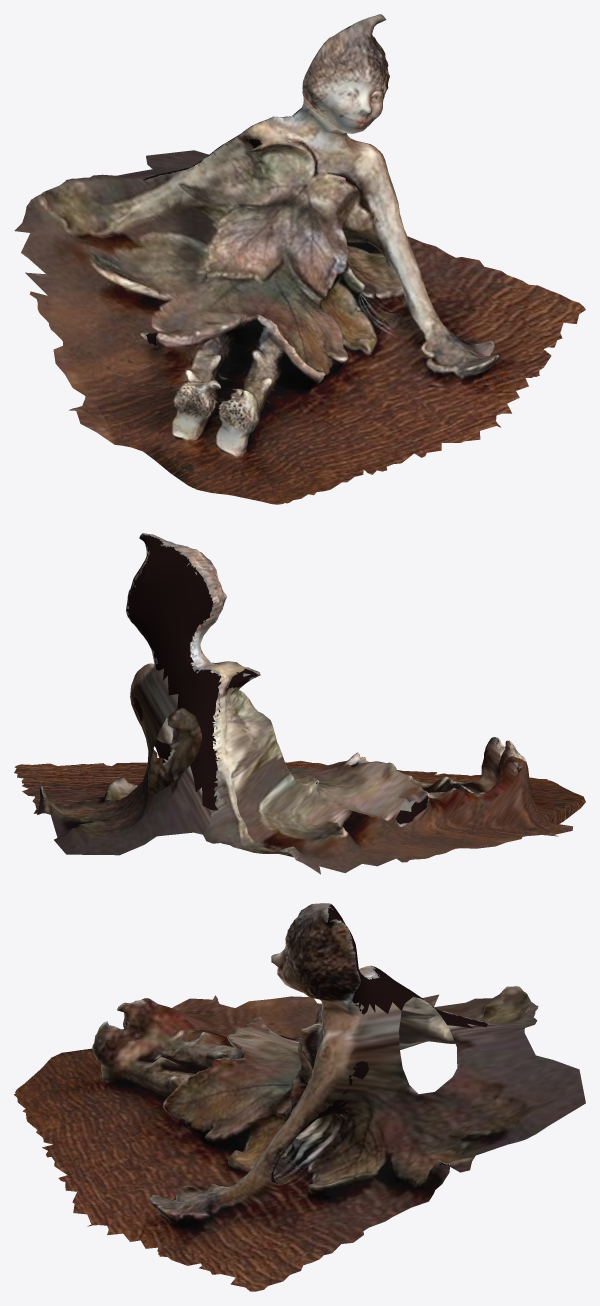
File: takkeWijfie1.glb
3 views of the same model, one above another, from view 1: azimuth 30°, elevation 25°; view 2: azimuth 150°, elevation 25°; view 3: azimuth 270°, elevation 25° (orthographic). The views are drawn at different scales.
Parts seen in each view (by area): view 1: takkeWijfie; view 2: takkeWijfie; view 3: takkeWijfie.
Boxes of the visible parts, x1,y1,x2,y2 form: takkeWijfie: (14, 14, 585, 504); takkeWijfie: (14, 533, 585, 874); takkeWijfie: (14, 903, 585, 1291).
Size of the model in its own units: 141 by 81.05 by 134.
Materials: 2 (2 with a texture image).
